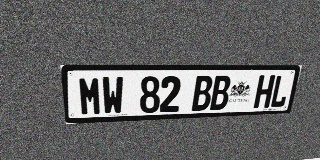2: (160, 76, 181, 112)
8: (140, 76, 161, 113)
B: (210, 75, 232, 110), (192, 76, 213, 111)
H: (253, 75, 276, 108)
L: (269, 75, 292, 108)
M: (78, 77, 102, 116)
W: (102, 76, 124, 115)
